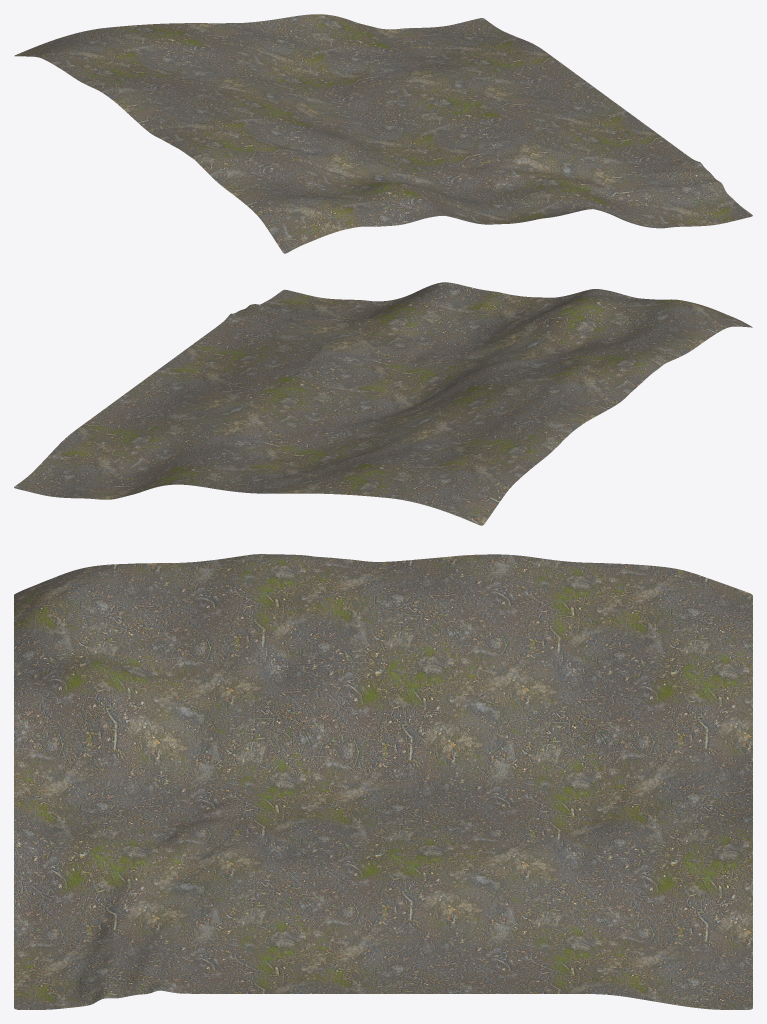
Rendered from ground_house_in_the_woods_project.glb.
The picture shows the model from 3 angles, top to bottom: view 1: azimuth 30°, elevation 25°; view 2: azimuth 150°, elevation 25°; view 3: azimuth 270°, elevation 25°; orthographic projection. The views are drawn at different scales.
Parts seen in each view (by area): view 1: Plane.005; view 2: Plane.005; view 3: Plane.005.
Part boxes in pixels (x1,y1,x2,y2): Plane.005: (14, 14, 752, 253); Plane.005: (14, 282, 752, 525); Plane.005: (14, 554, 752, 1009).
Size of the model in its own units: 58.15 by 12.72 by 58.07.
1 material, 1 textured.
